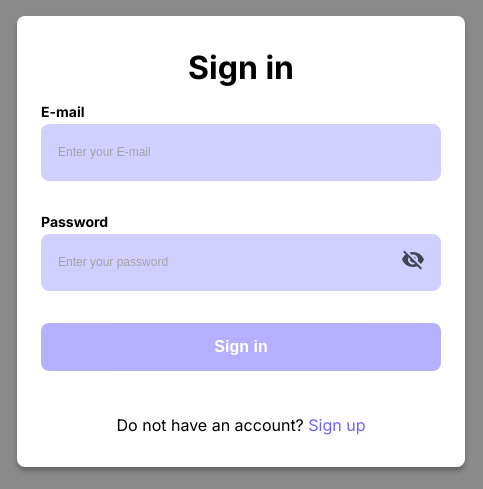
Test: SigninPage › shows validation errors when submitting invalid form
The image size is (483, 489).
Type "john@example" into the field with test id "email" at (241, 152), box [41, 124, 441, 180]
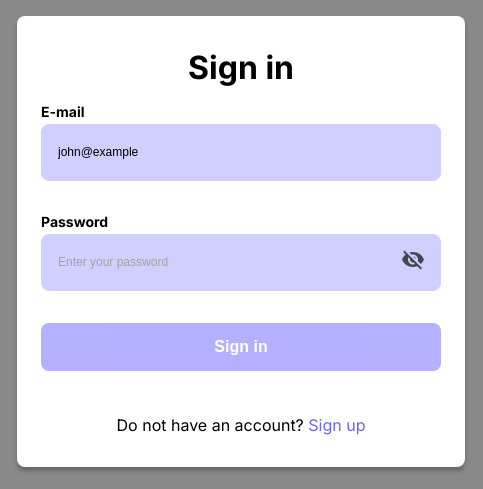
Type "Pass" into the password field with test id "password" at (241, 262), box [41, 234, 441, 290]
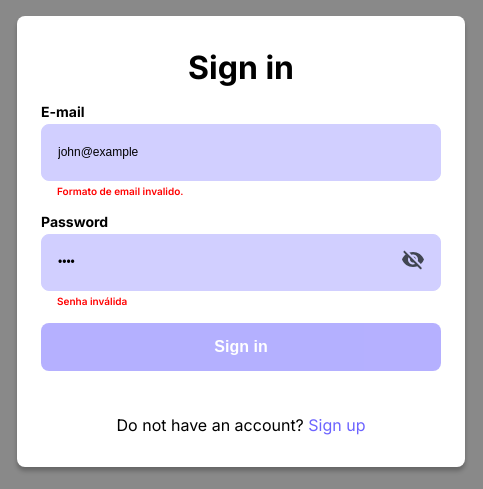
Now the text with test id "error-email" reads "Formato de email invalido.", box [57, 184, 184, 196]
Now the text with test id "error-password" shows "enha inválida", box [57, 294, 127, 306]
